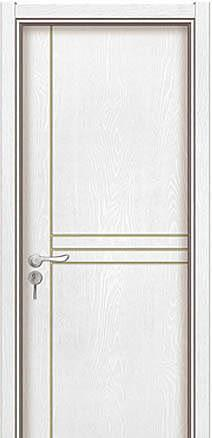door: (24, 23, 190, 432)
